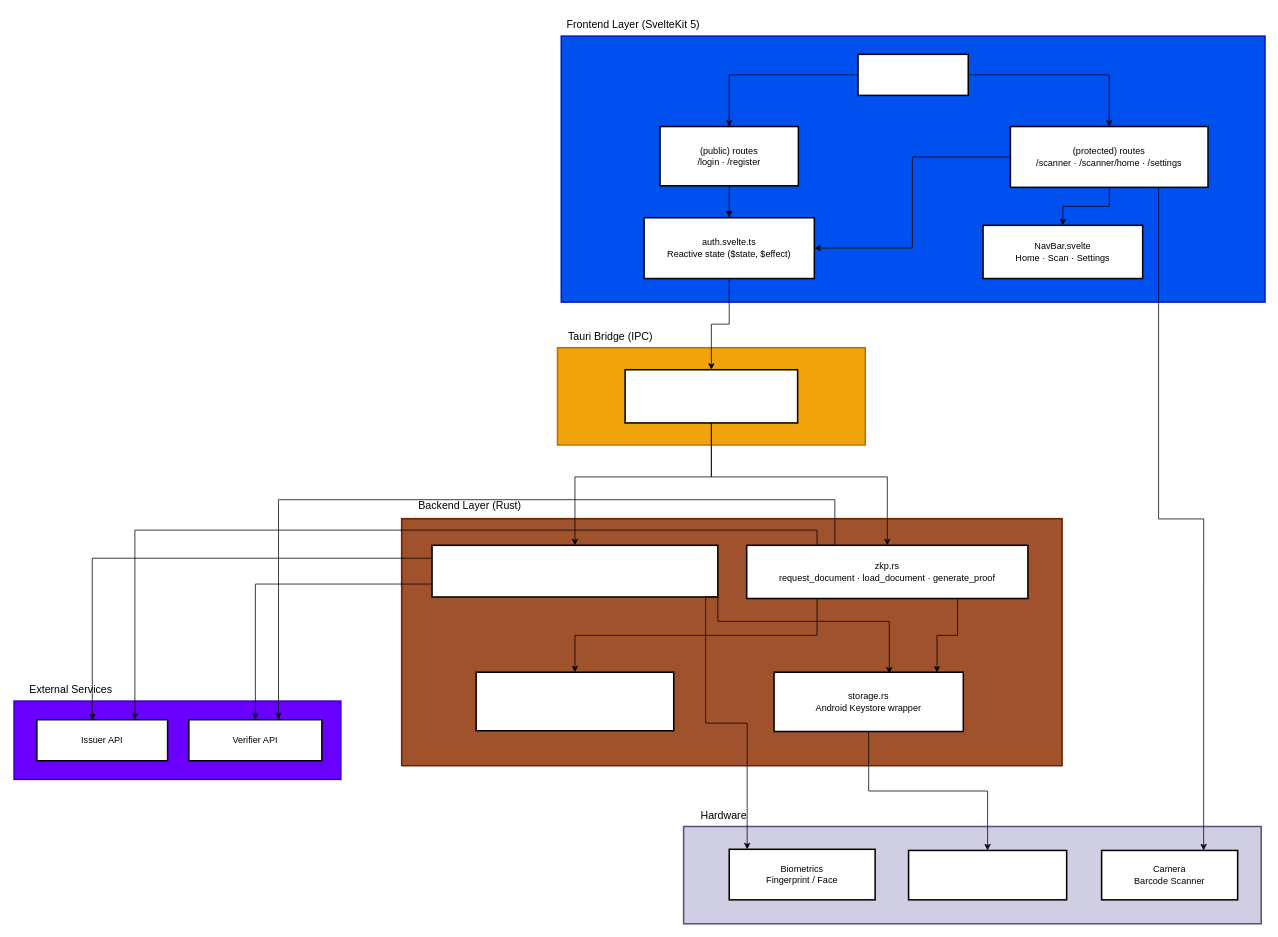
The diagram is 1278 pixels wide and 937 high, and some of its shapes have lost their labels. Here are the shapes that lost their labels. From the top down, the centre of each, then its label:
(x=913, y=74): Route Layer
(x=711, y=396): invoke() calls 7 registered commands
(x=574, y=570): auth.rs login · register · logout · is_auth
(x=574, y=701): zkp_gen.rs AgeVerifier circuit · Groth16::prove()
(x=987, y=874): Android Keystore Secure Enclave
